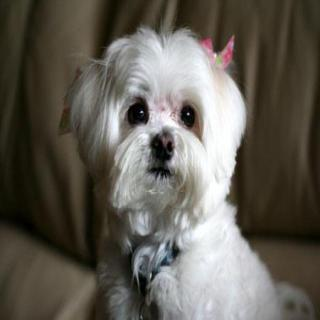dog: (59, 19, 256, 234)
nose: (148, 128, 178, 162)
